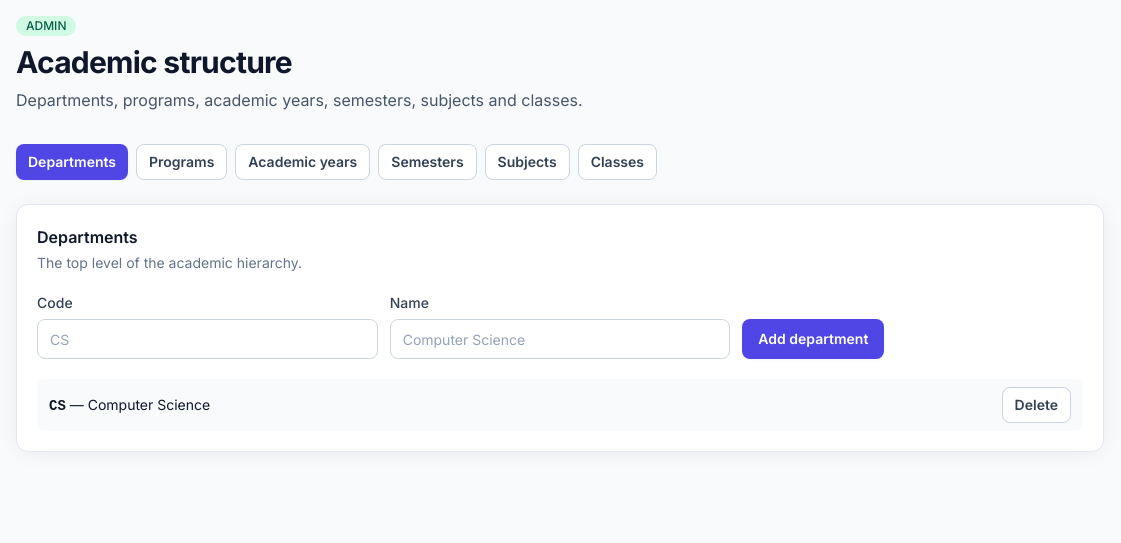
AdminAcademic › creates a department through the admin API
Expected: the heading "Academic structure" is shown, x1=16 y1=44 x2=292 y2=80
In the field labelled "Code": point(207, 339) x1=37 y1=319 x2=378 y2=359, type "NEW"
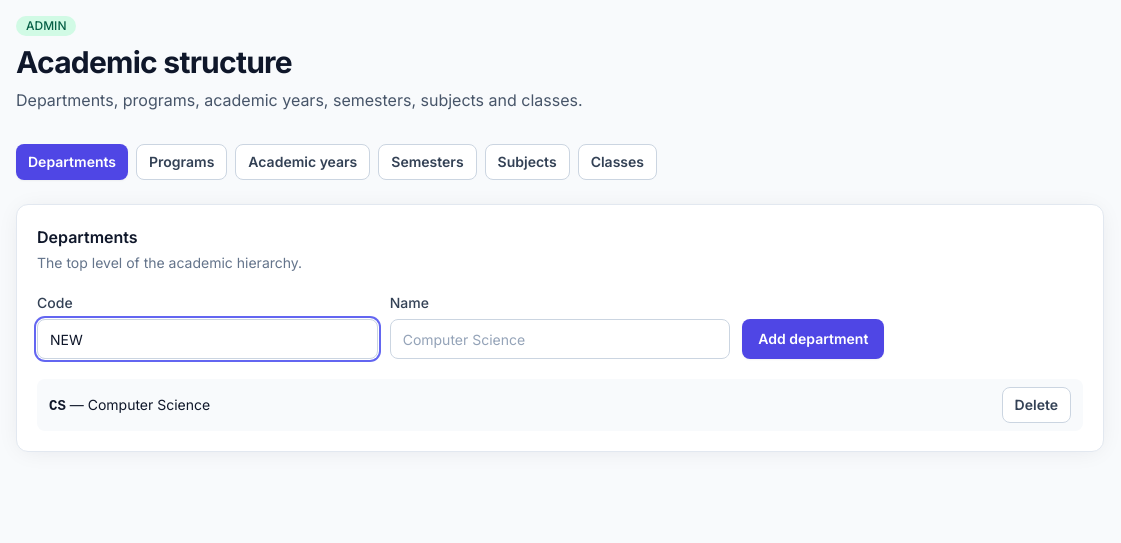
In the field labelled "Name": point(560, 339) x1=390 y1=319 x2=730 y2=359, type "New department"
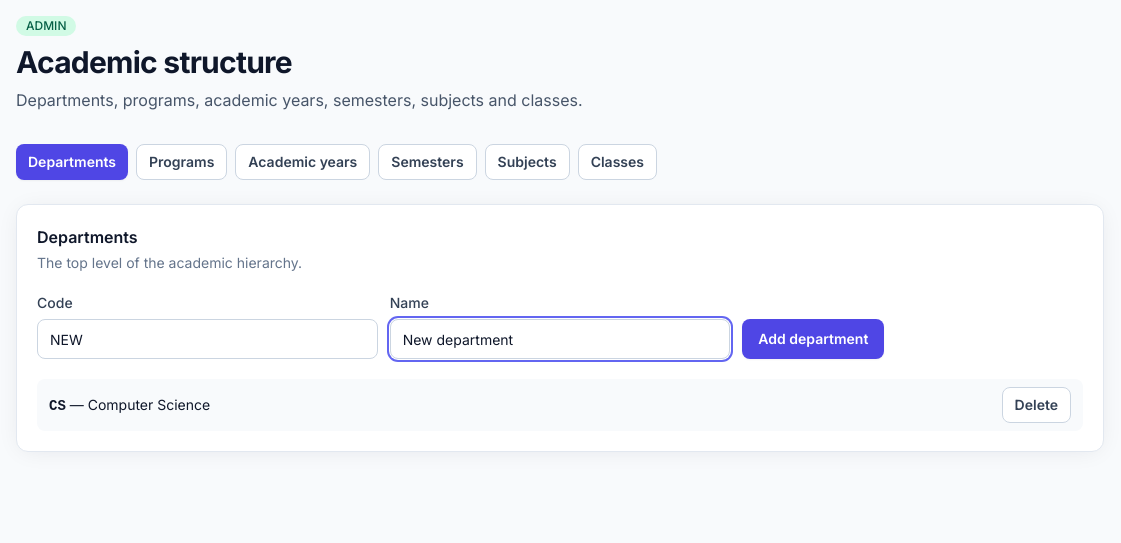
Click the button "Add department": point(813, 339) x1=742 y1=319 x2=884 y2=359
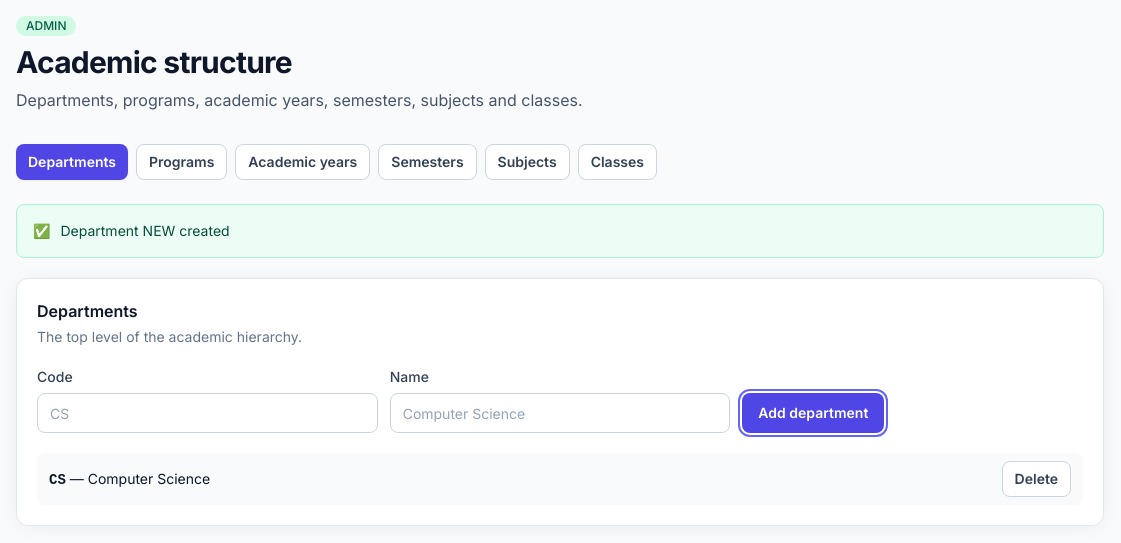
Now the text "Department NEW created" is shown, box x1=60 y1=222 x2=230 y2=239
